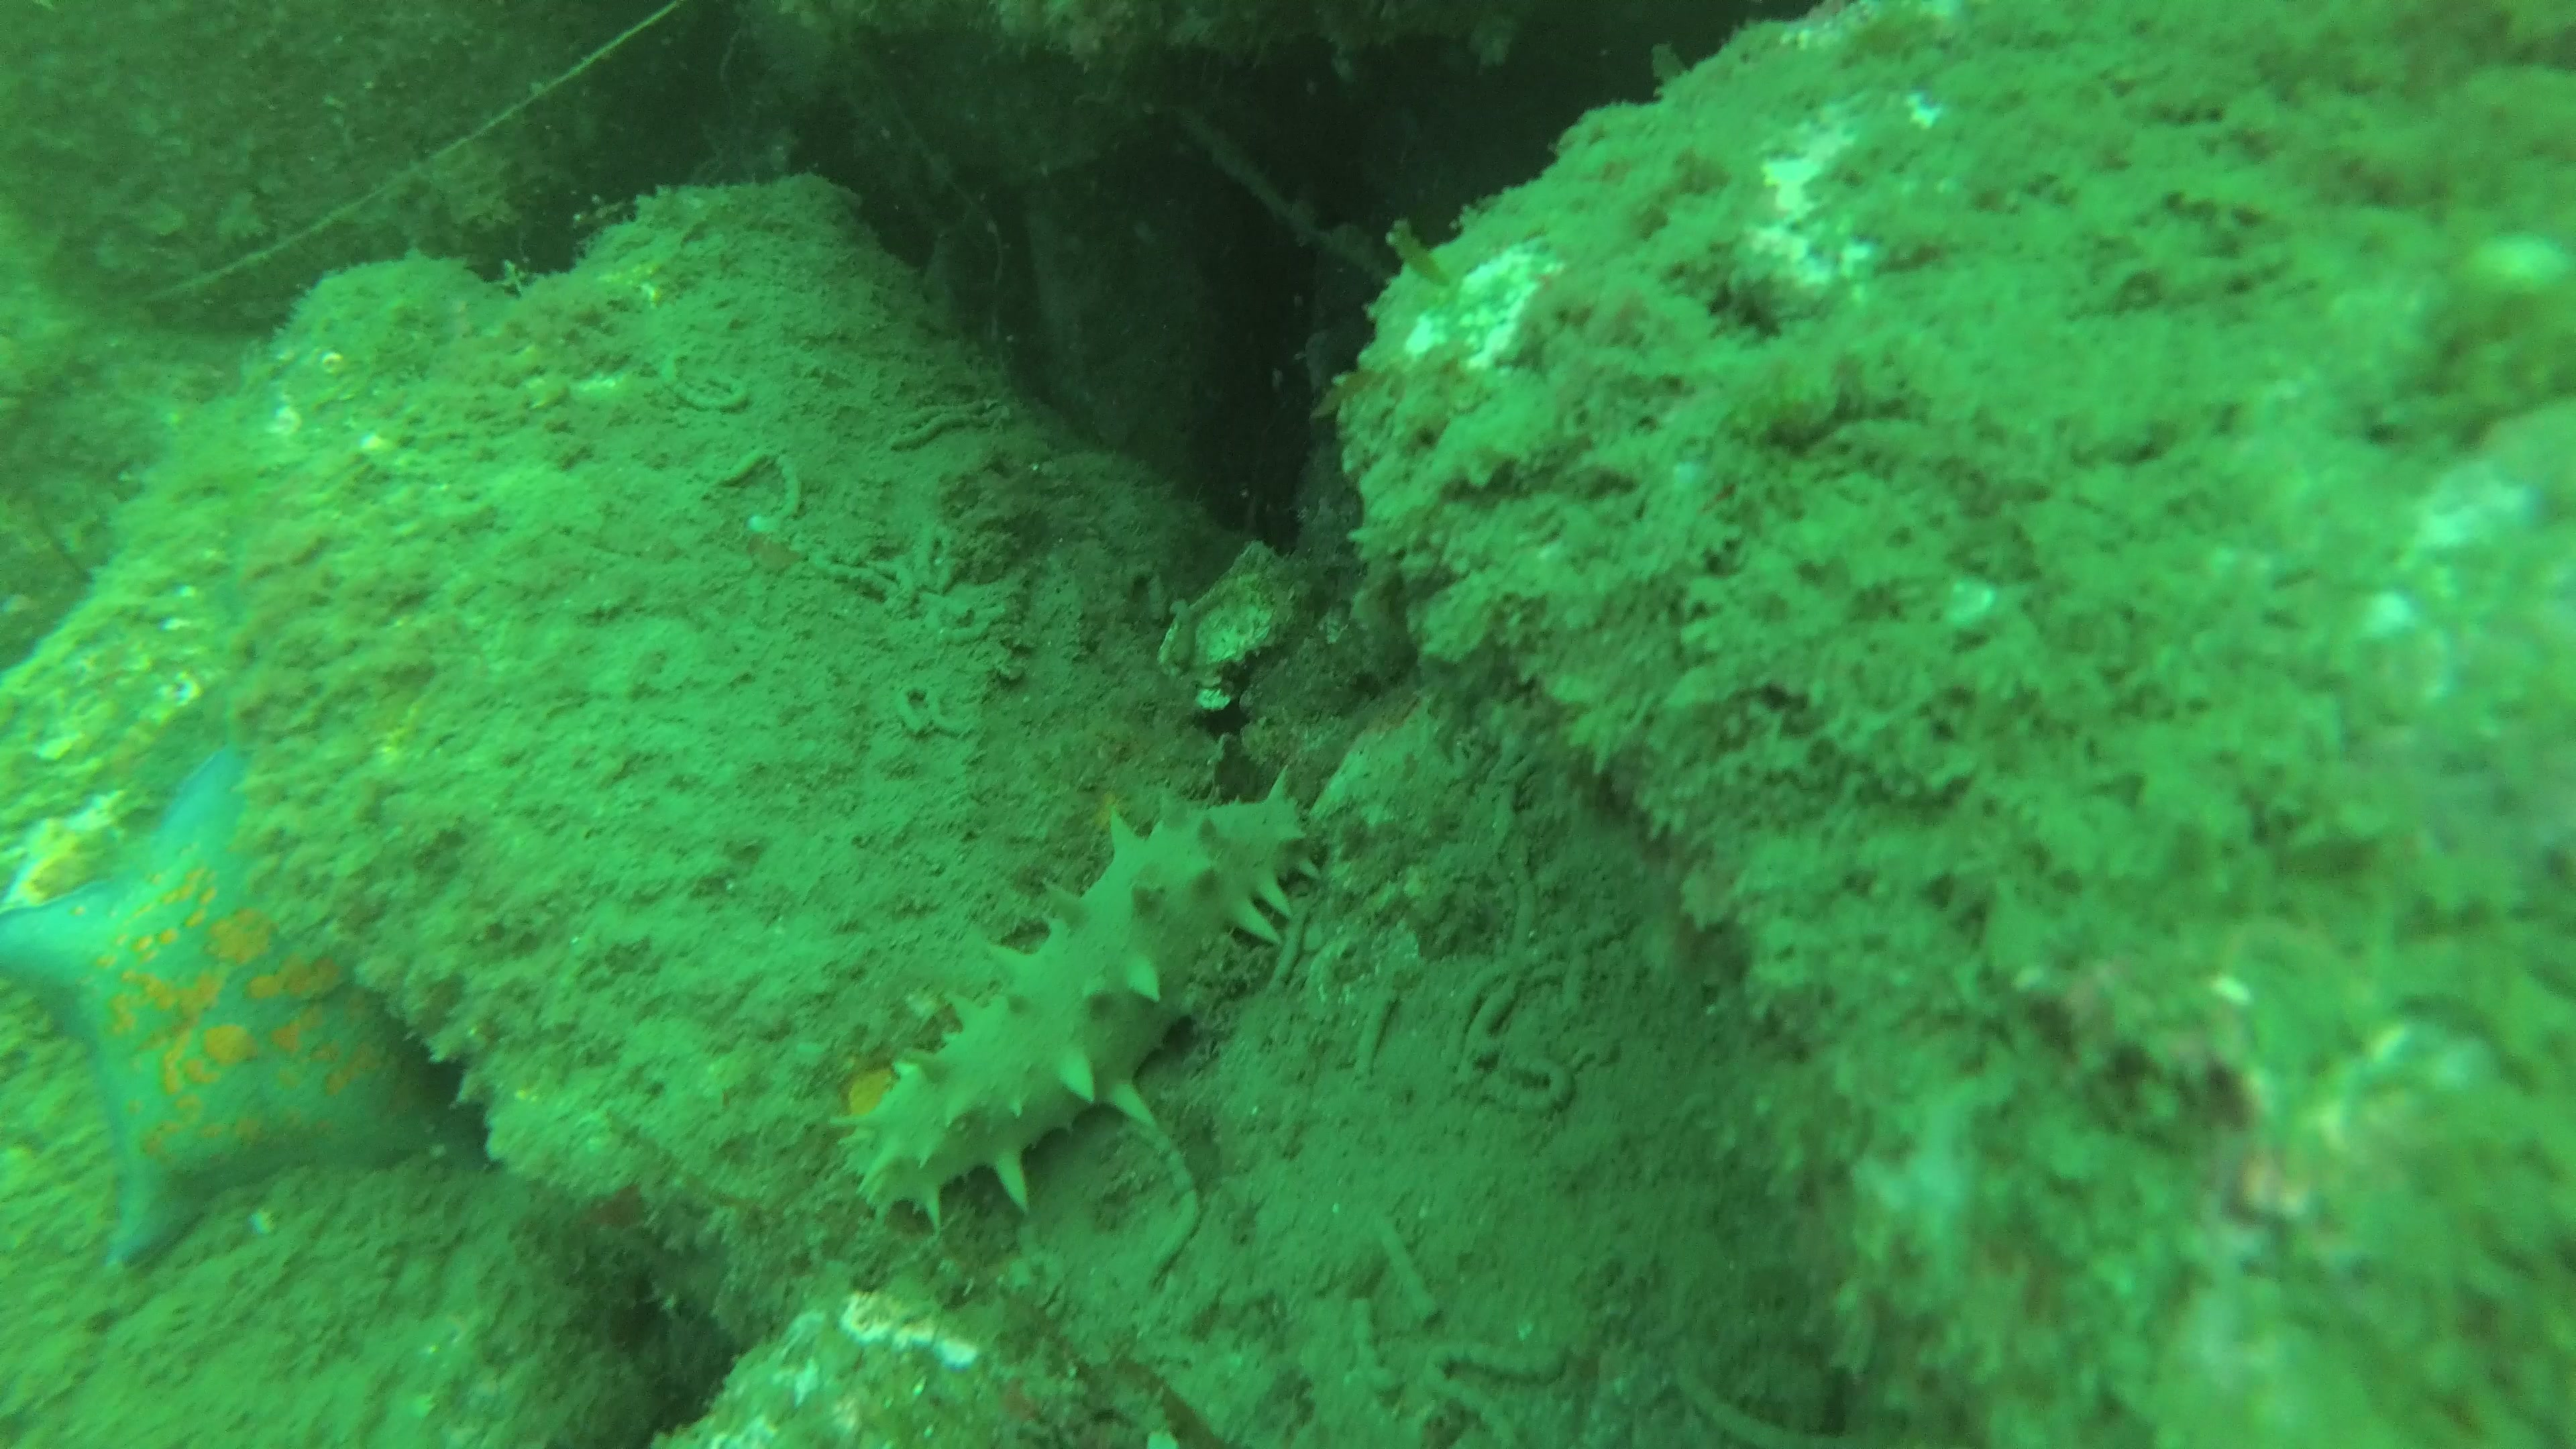holothurian: (828, 764, 1323, 1237)
starfish: (0, 740, 444, 1267)
